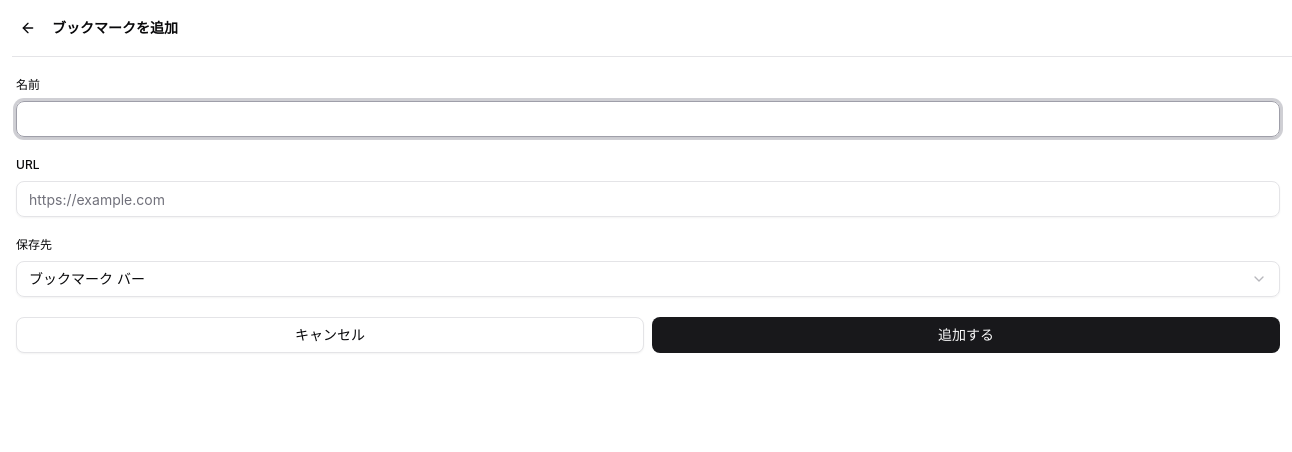
Test: shadcnのブックマーク編集画面 › 不正なURLを保存せず、編集画面内にエラーを表示する
The width and height of the screenshot is (1292, 452).
Type "危険なリンク" into the field labelled "名前". click: (648, 119)
box: [16,101,1280,137]
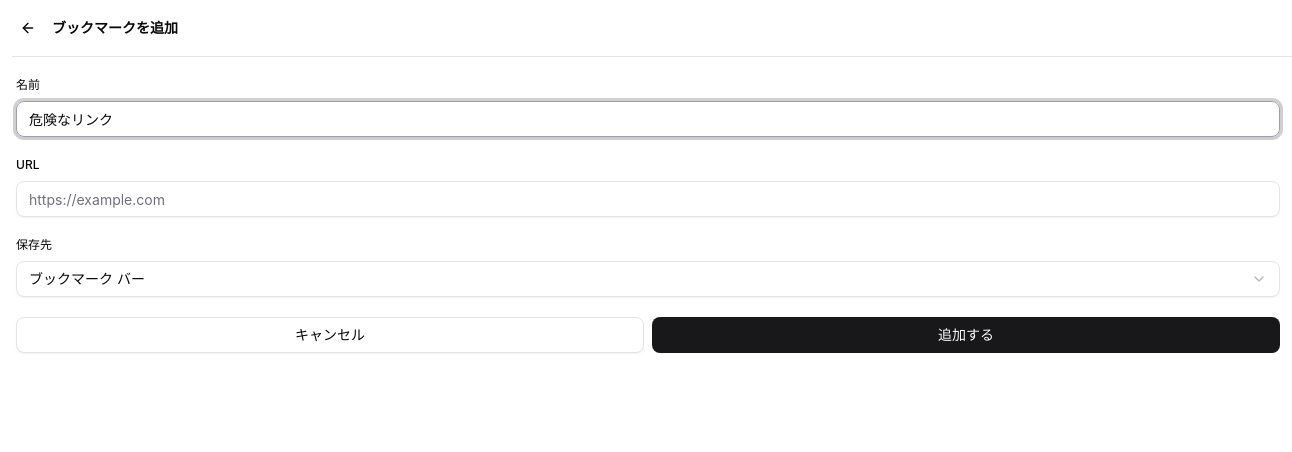
Type "javascript:alert(1)" into the field labelled "URL". click: (648, 199)
box: [16,181,1280,217]
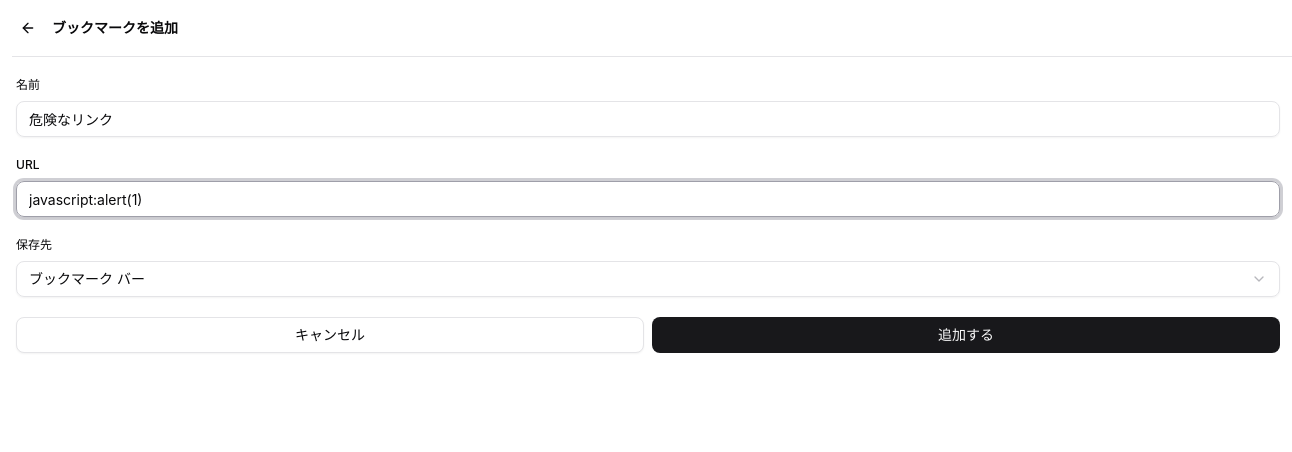
Click the button "追加する". click: (966, 335)
box: [652,317,1280,353]
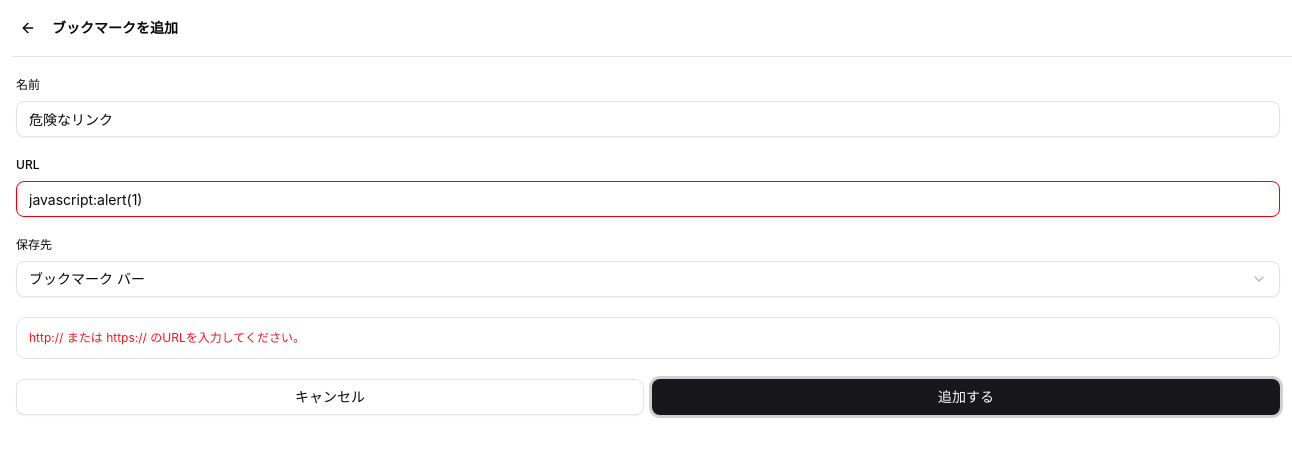
Expected: the message shows "http:// または https://", [29,330,305,345]
